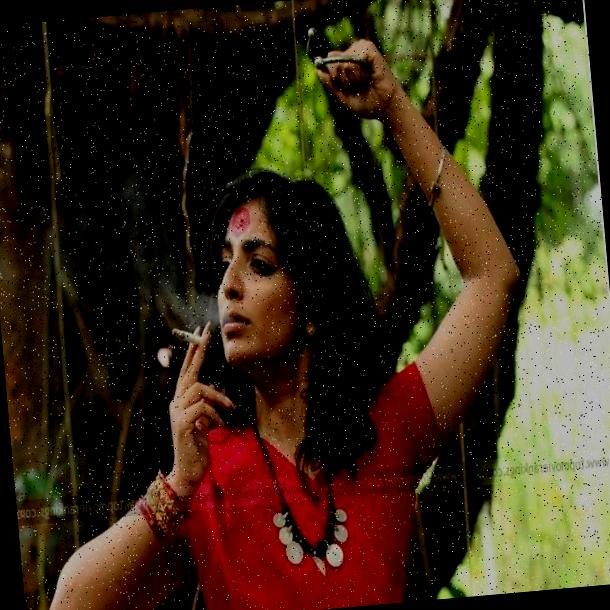smoke: (73, 191, 227, 345)
